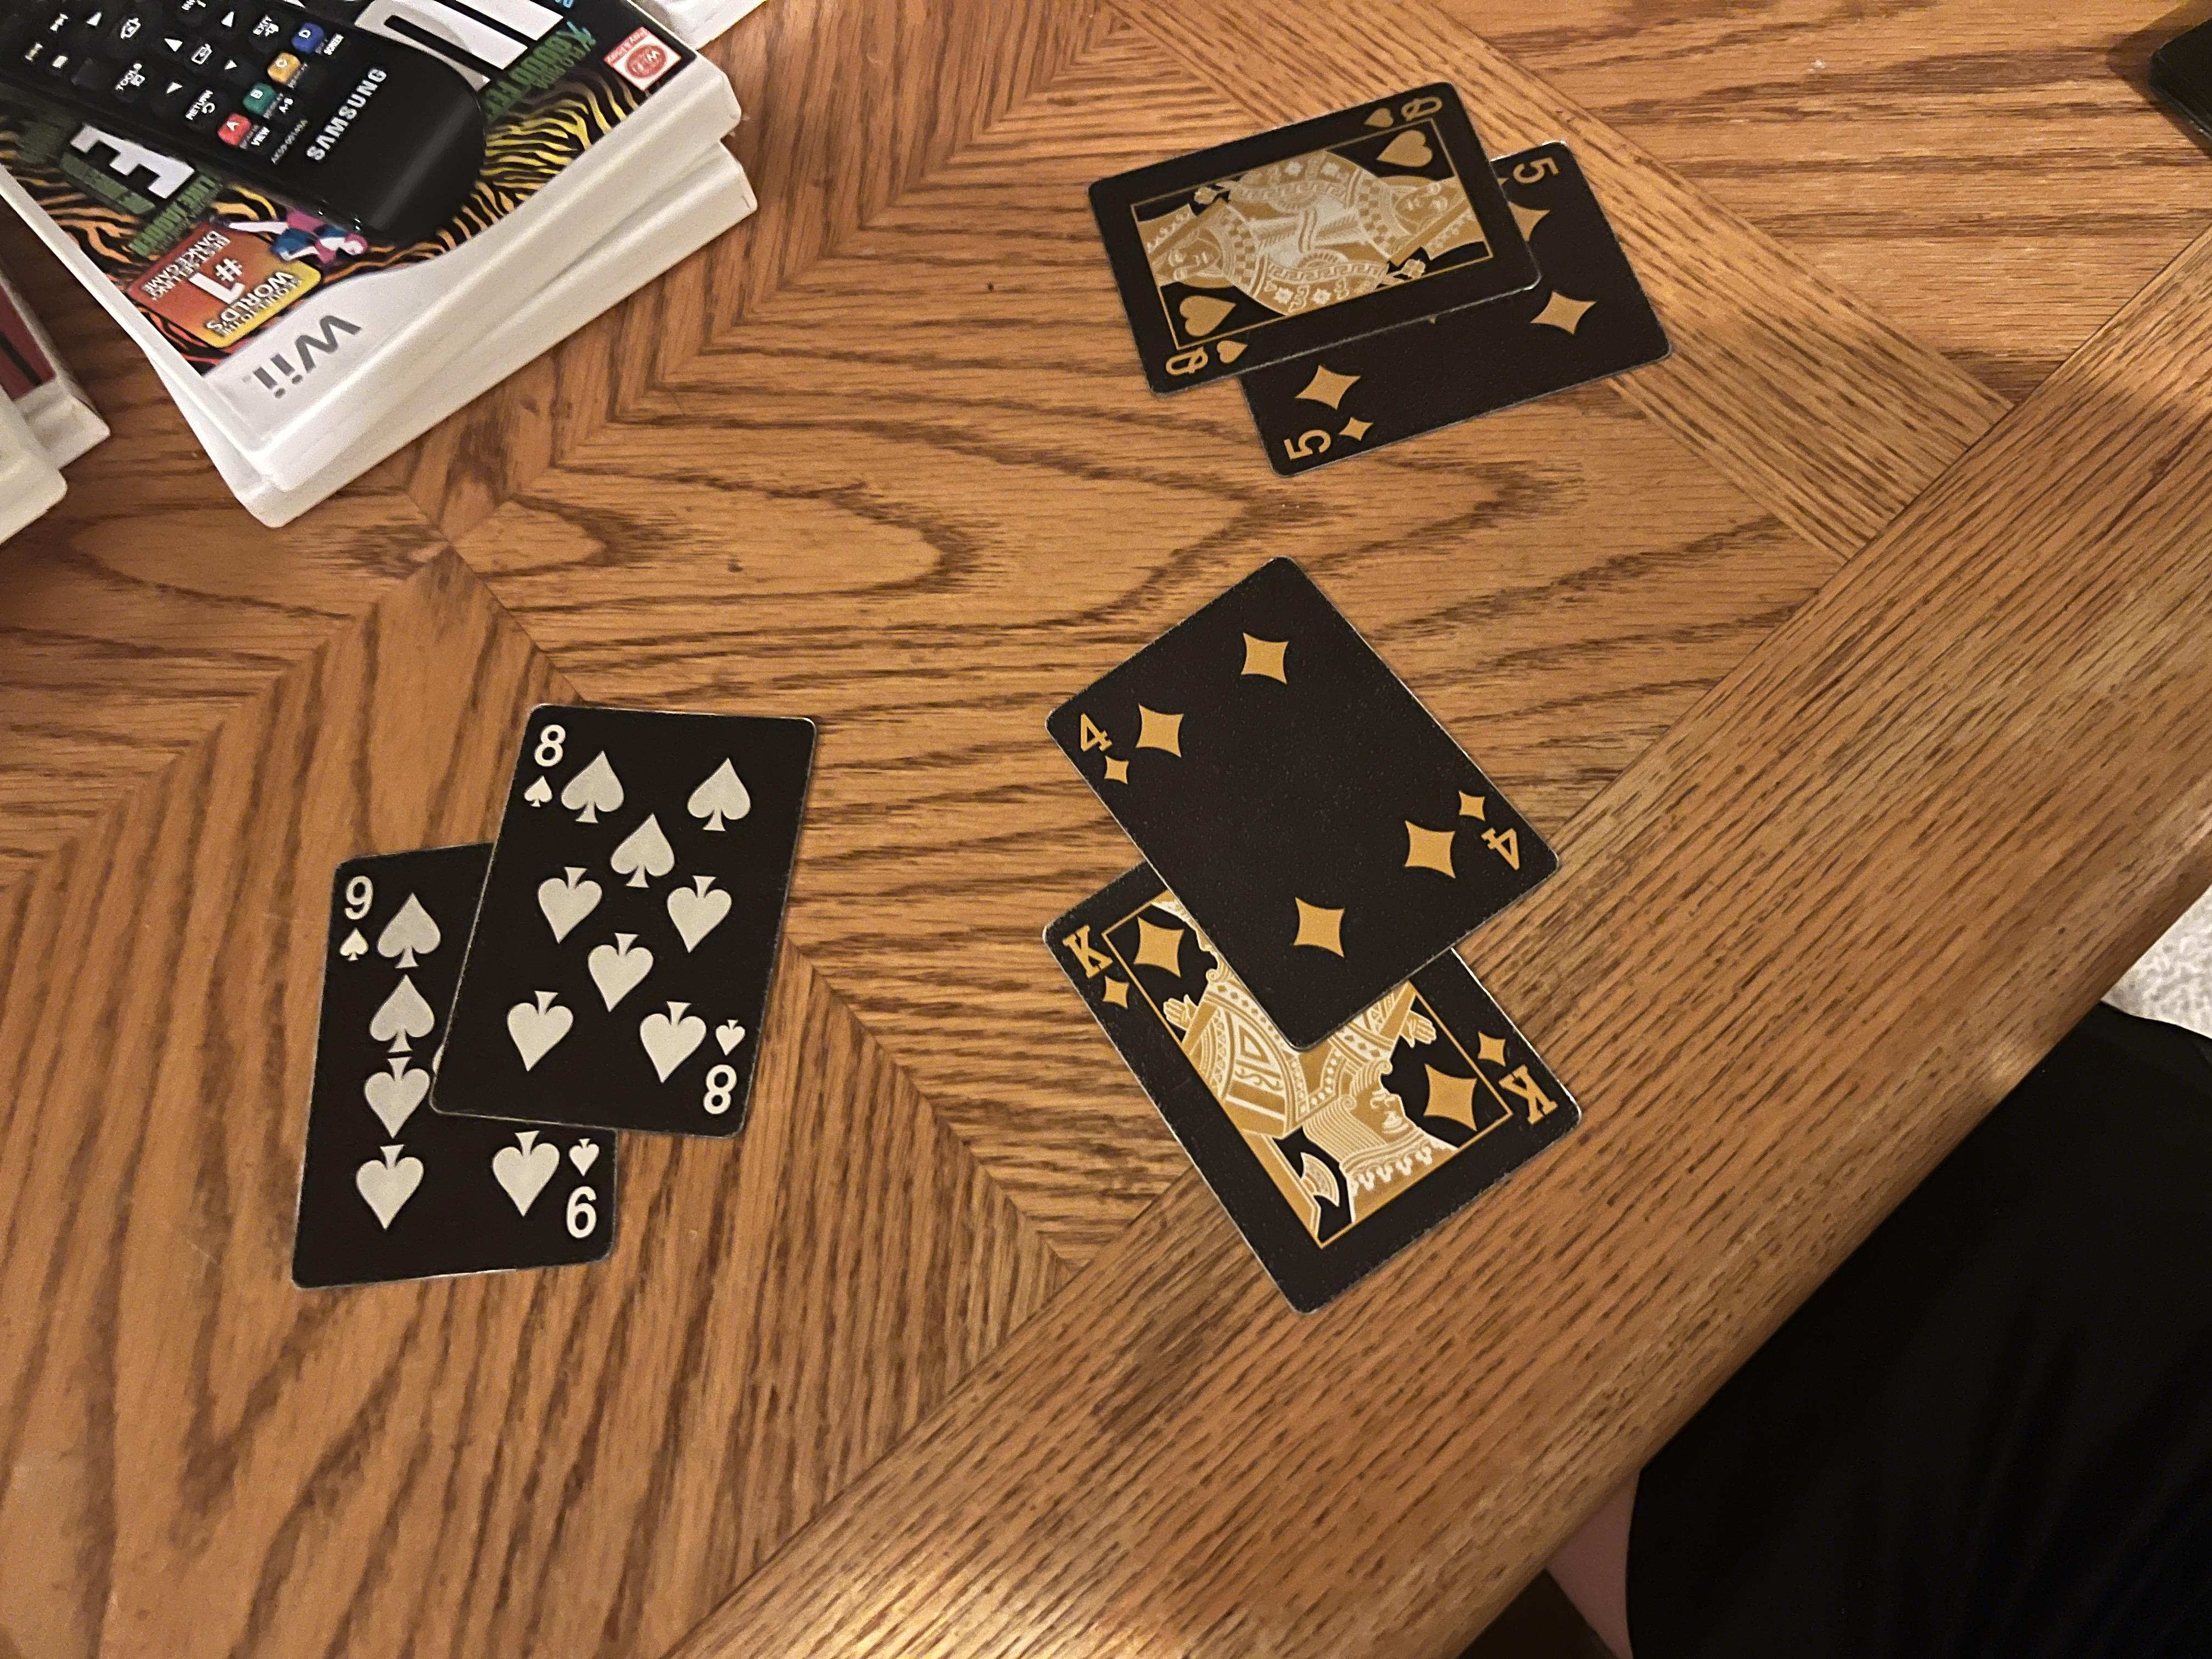4D: (1039, 1090, 1187, 1148), (1151, 797, 1266, 854)
5D: (1583, 958, 1663, 1036), (1953, 1124, 2015, 1173)
8S: (1125, 381, 1271, 422), (715, 523, 870, 561)
9S: (545, 418, 706, 453), (928, 246, 1052, 281)
KD: (860, 787, 995, 854), (704, 1109, 854, 1168)
QH: (1705, 865, 1793, 939), (2028, 1016, 2088, 1087)
